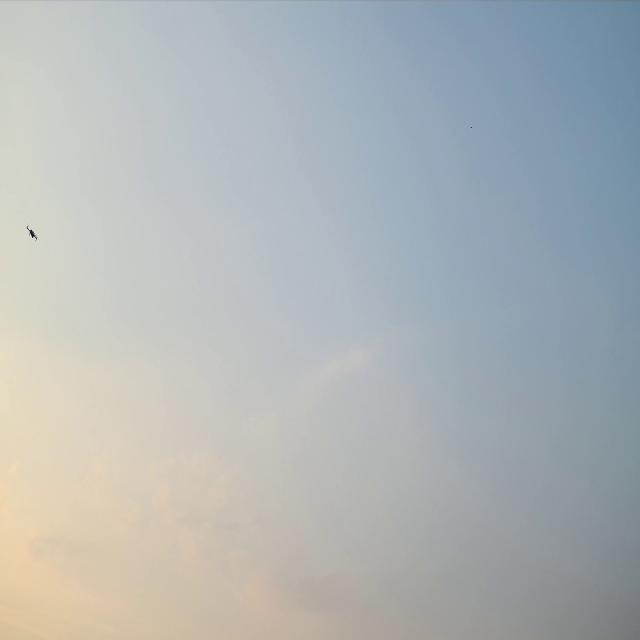UAV: (27, 226, 37, 240)
